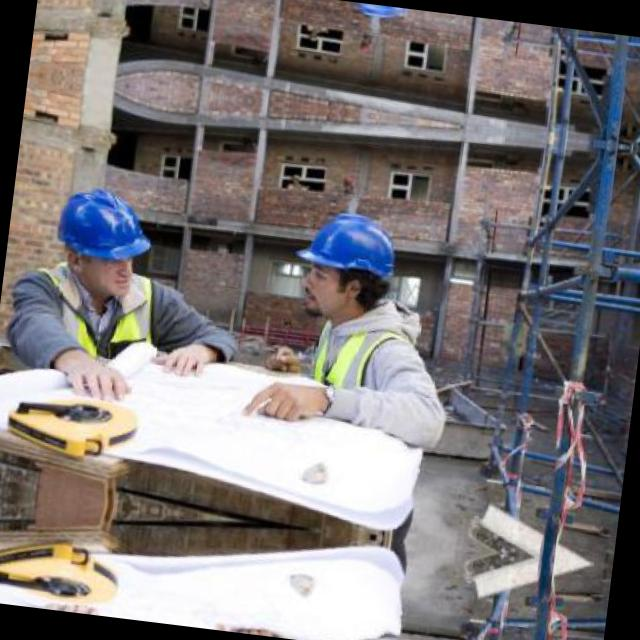helmet: (284, 198, 413, 332), (42, 176, 166, 300)
